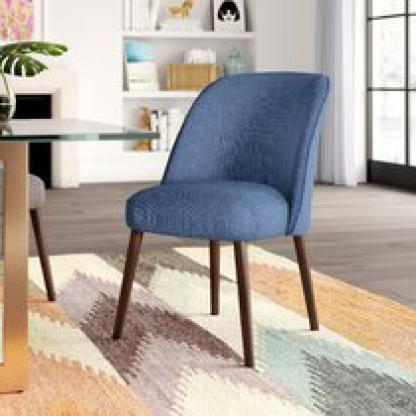chair: (98, 64, 353, 370)
table: (0, 107, 152, 396)
